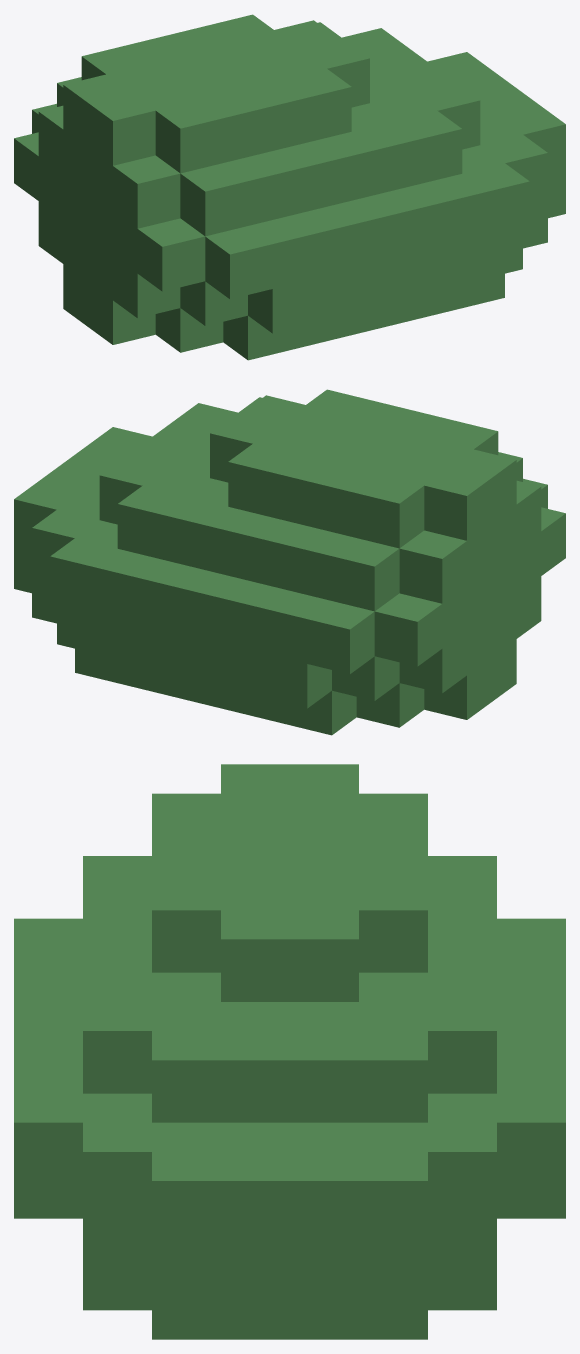
The model's file is Snake01-Head.gltf.
3 renders of one model, top to bottom at view 1: azimuth 30°, elevation 25°; view 2: azimuth 150°, elevation 25°; view 3: azimuth 270°, elevation 25°, orthographic. The views are drawn at different scales.
Bounding box in the file's own units: 10 × 5 × 8.
